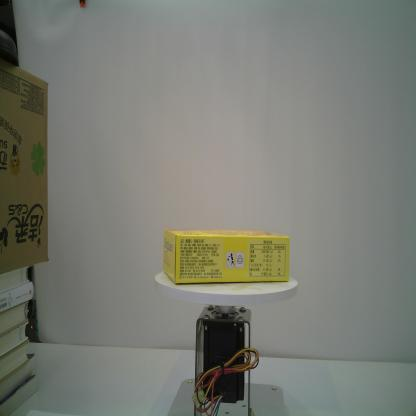Dessert: (161, 224, 290, 284)
